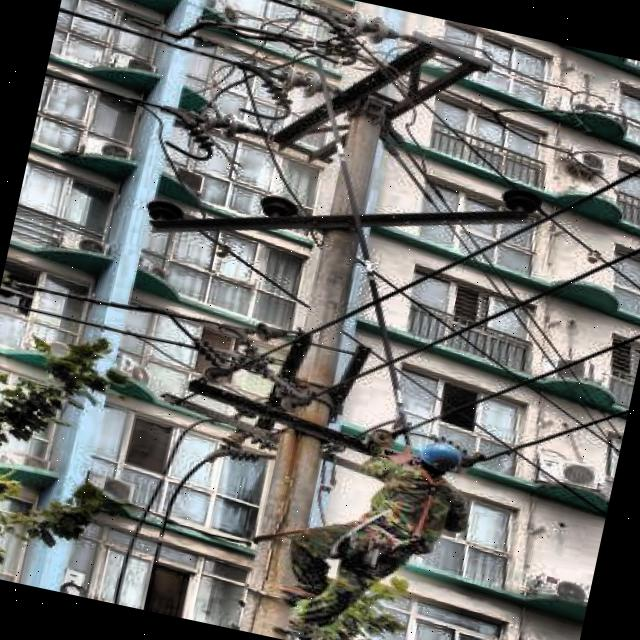helmet: (404, 434, 469, 484)
